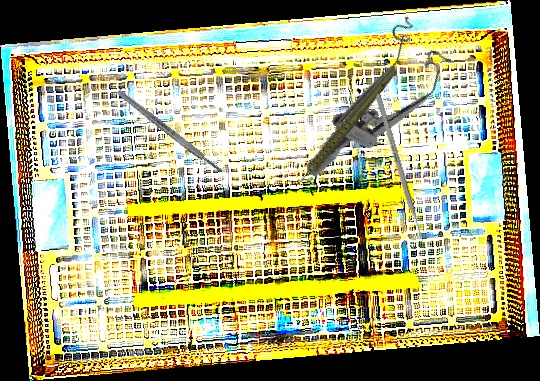Handpiece: (267, 64, 418, 190)
Pusher: (374, 93, 428, 251)
Scalpel Handle: (115, 88, 225, 175)
Speculum: (303, 6, 462, 209)
